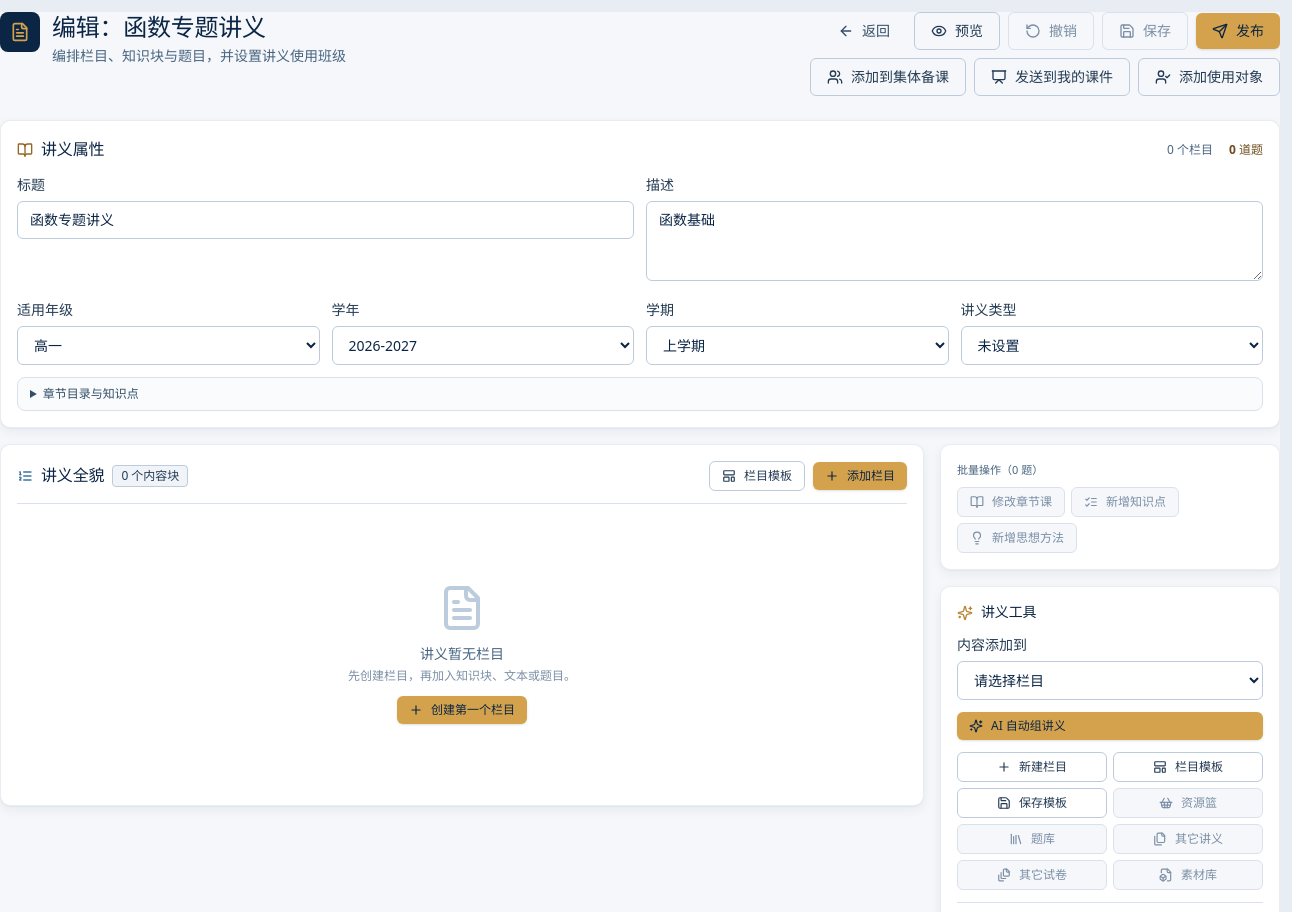
Scenario: LectureEditorPage courseware action › disables save while clean and can undo unsaved lecture changes
Check: the button "保存" is disabled, box [1102, 12, 1188, 50]
Check: the button "撤销" is disabled, box [1008, 12, 1094, 50]
Replace the text in the field labelled "标题" with "修改后的讲义标题" at (326, 220), box [17, 201, 634, 239]
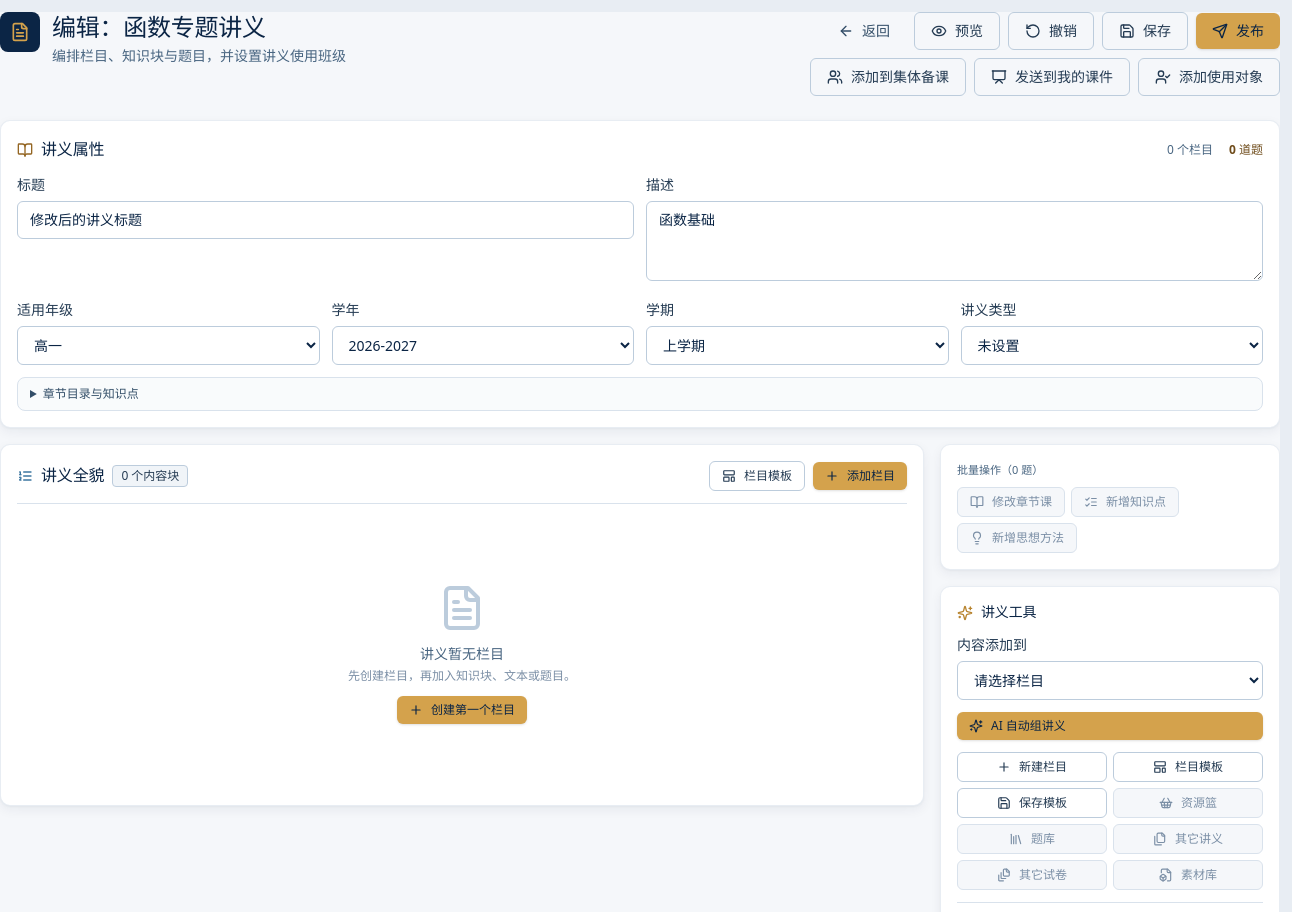
Check: the button "保存" is enabled, box [1102, 12, 1188, 50]
Check: the button "撤销" is enabled
Click the button "撤销" at (1051, 31), box [1008, 12, 1094, 50]
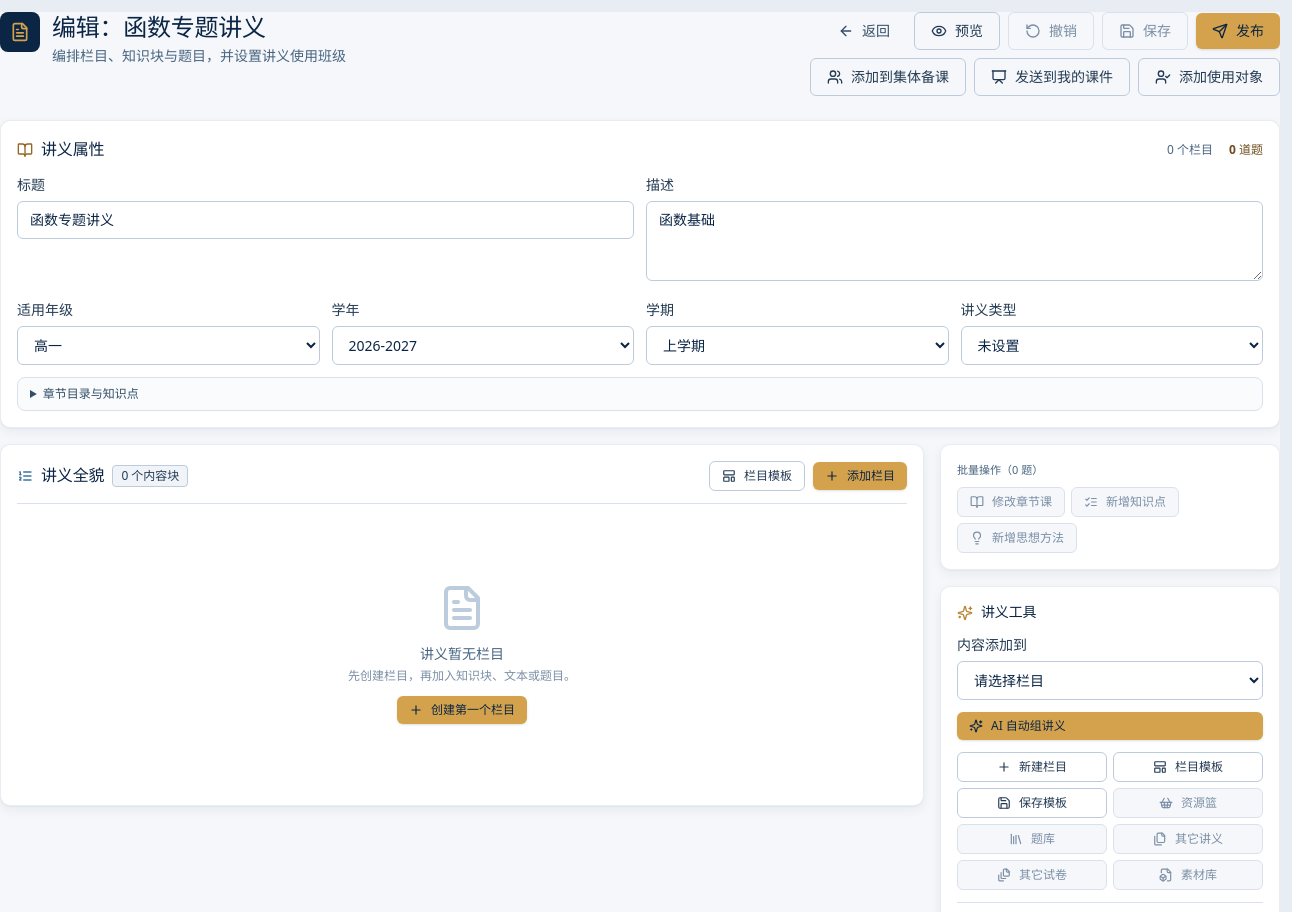
Check: the field labelled "标题" holds "函数专题讲义"
Check: the button "保存" is disabled, box [1102, 12, 1188, 50]
Replace the text in the field labelled "标题" with "最终讲义标题" at (326, 220), box [17, 201, 634, 239]
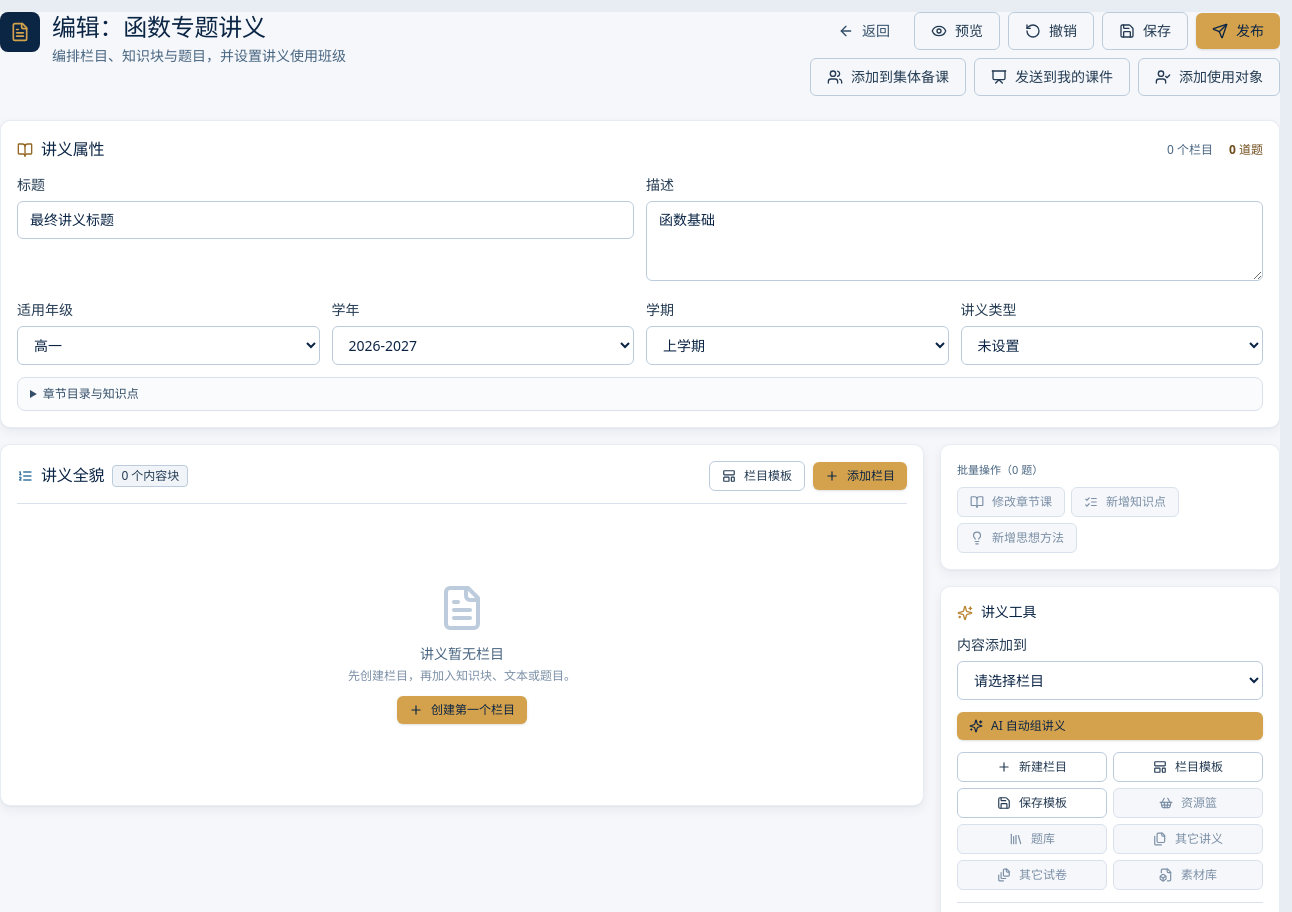
Click the button "保存" at (1145, 31), box [1102, 12, 1188, 50]
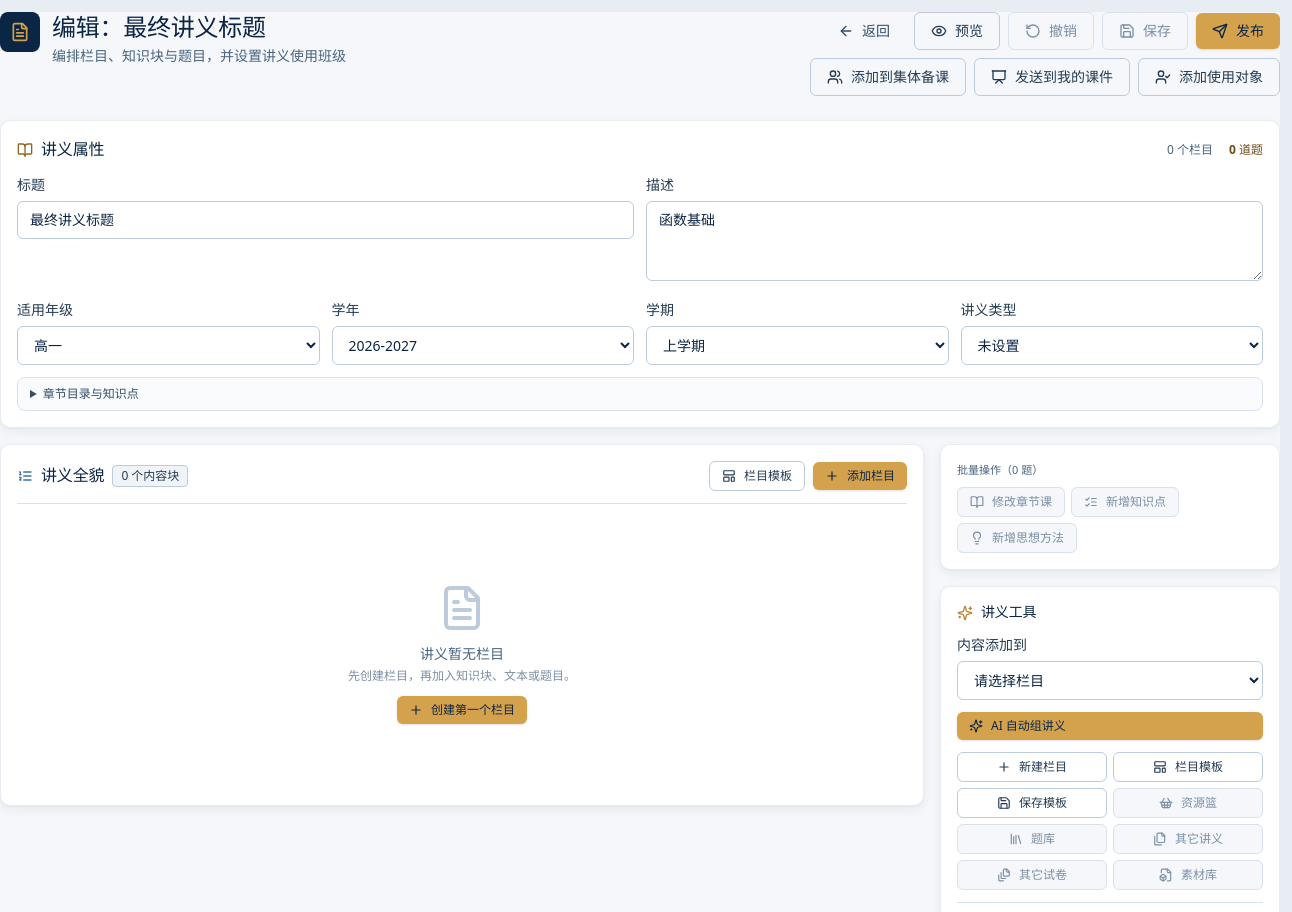
Check: the button "保存" is disabled, box [1102, 12, 1188, 50]
